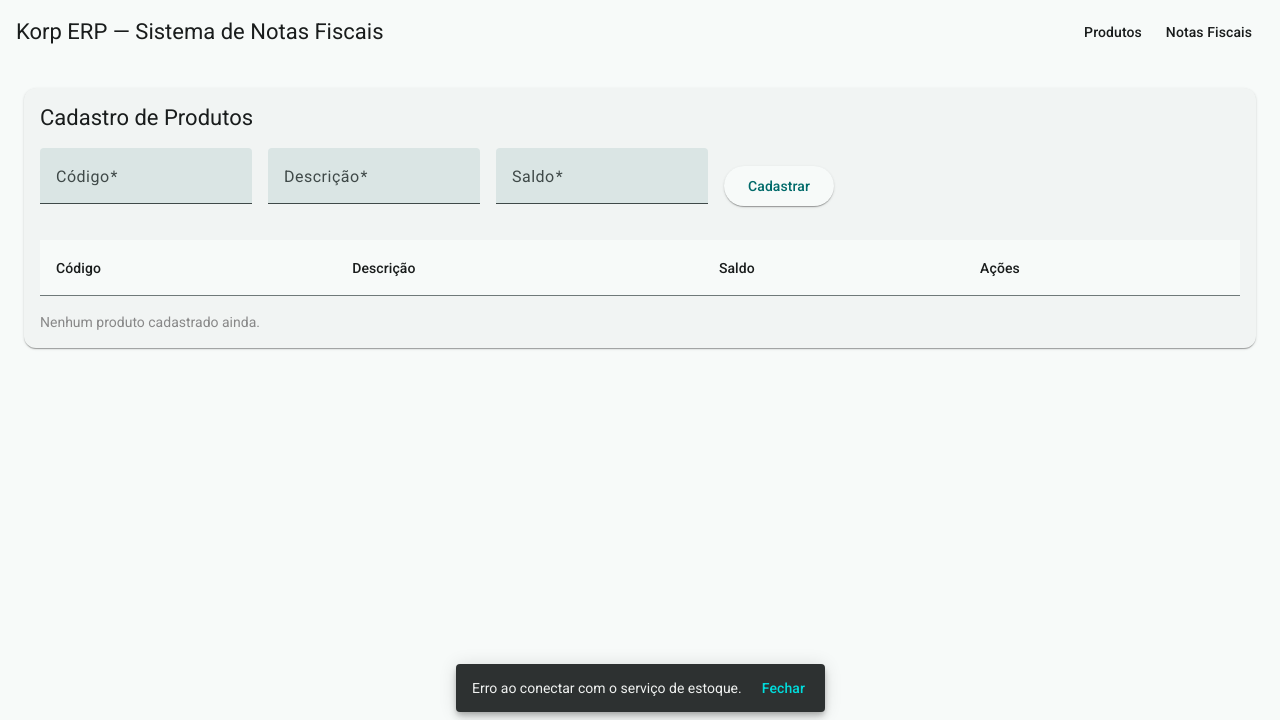
Test: Cadastro de Produtos › não deve cadastrar produto sem preencher campos
Click the button "Cadastrar" at (779, 186), box x1=724 y1=166 x2=834 y2=206
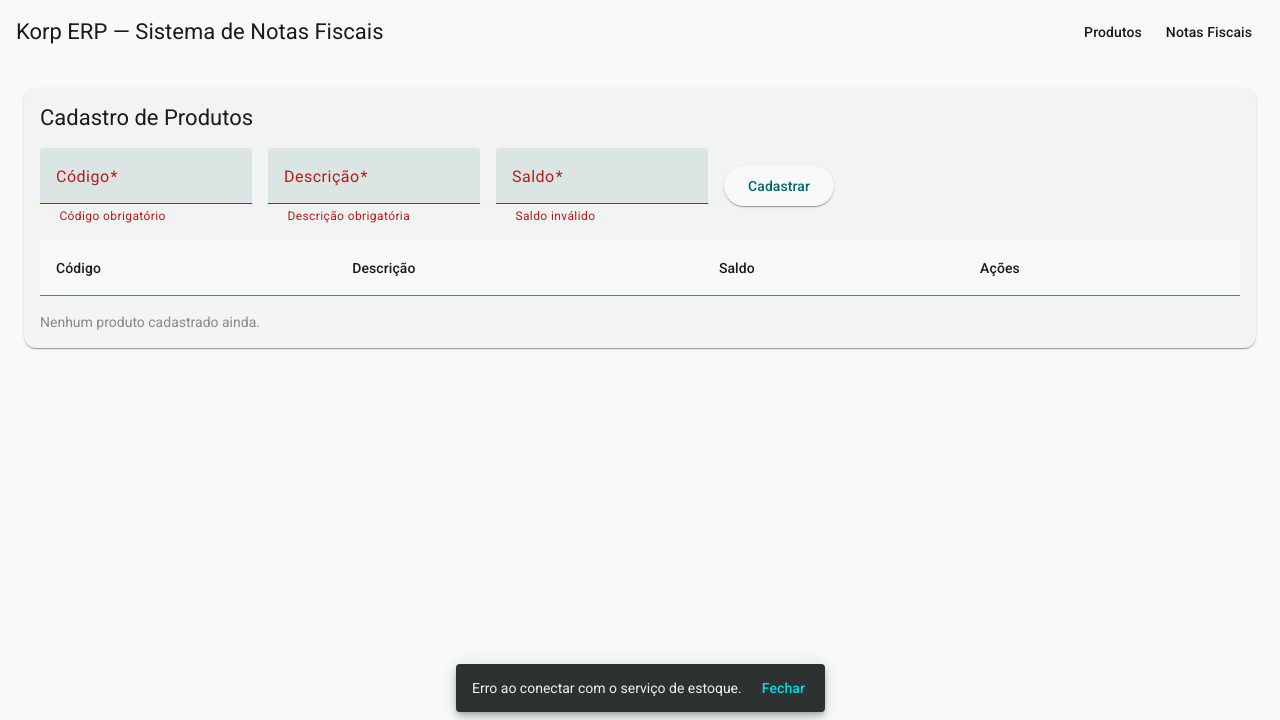
Expected: the text "Código obrigatório" is shown, x1=56 y1=209 x2=166 y2=223
